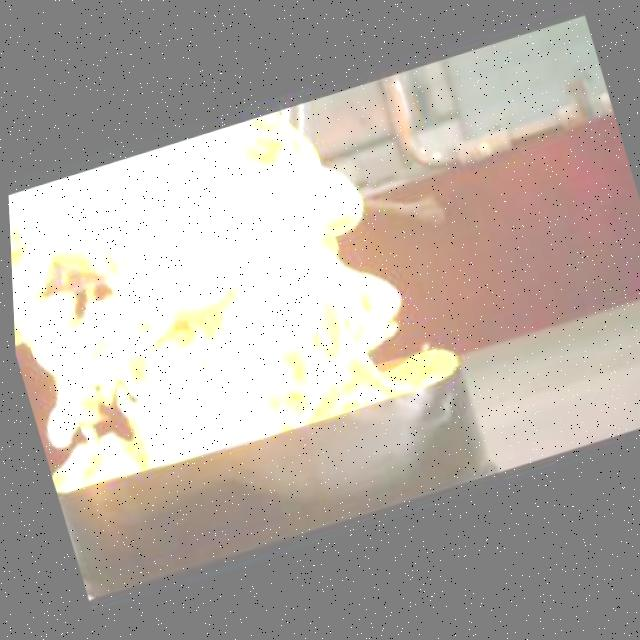Smoke: (4, 91, 448, 496)
